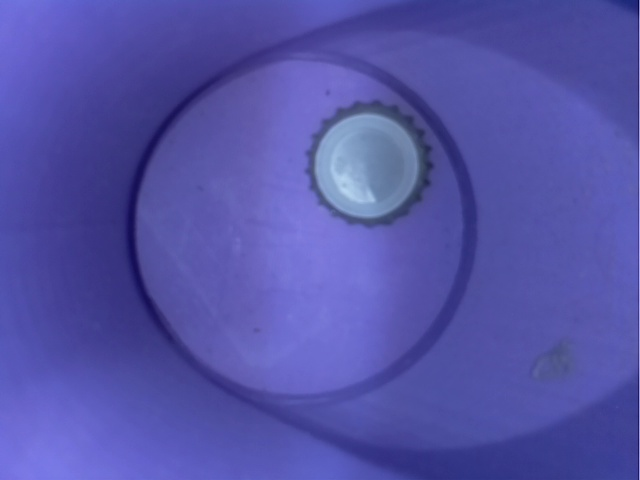capsule: (298, 85, 445, 242)
